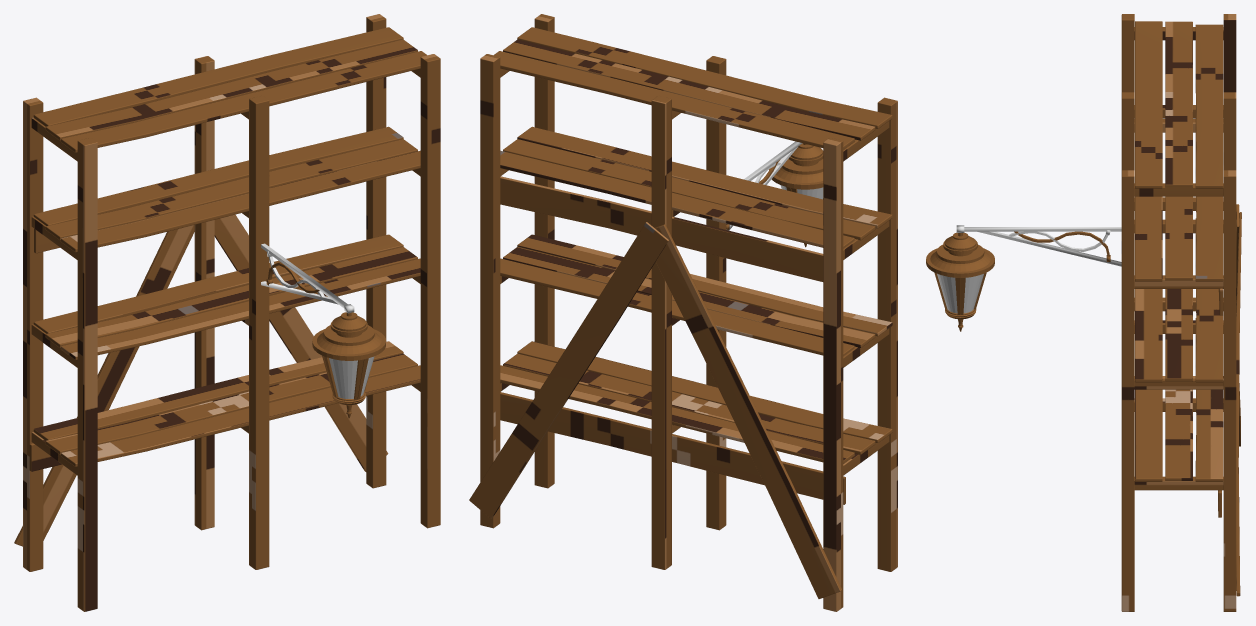
File: Lamp_Shelf.fbx
3 views of the same model, side by side, from view 1: azimuth 30°, elevation 25°; view 2: azimuth 150°, elevation 25°; view 3: azimuth 270°, elevation 25° (orthographic). The views are drawn at different scales.
Visible parts, largest first — view 1: wooden_storage_shelf, wooden_storage_shelf.002; view 2: wooden_storage_shelf, wooden_storage_shelf.002; view 3: wooden_storage_shelf, wooden_storage_shelf.002.
Part boxes in pixels (bbox=[...]): wooden_storage_shelf: bbox=[14, 14, 440, 611]; wooden_storage_shelf.002: bbox=[261, 243, 385, 418]; wooden_storage_shelf: bbox=[469, 14, 897, 611]; wooden_storage_shelf.002: bbox=[726, 141, 823, 247]; wooden_storage_shelf: bbox=[1121, 14, 1241, 611]; wooden_storage_shelf.002: bbox=[926, 225, 1121, 331].
Bounding box in the file's own units: 935 × 1121 × 736.
